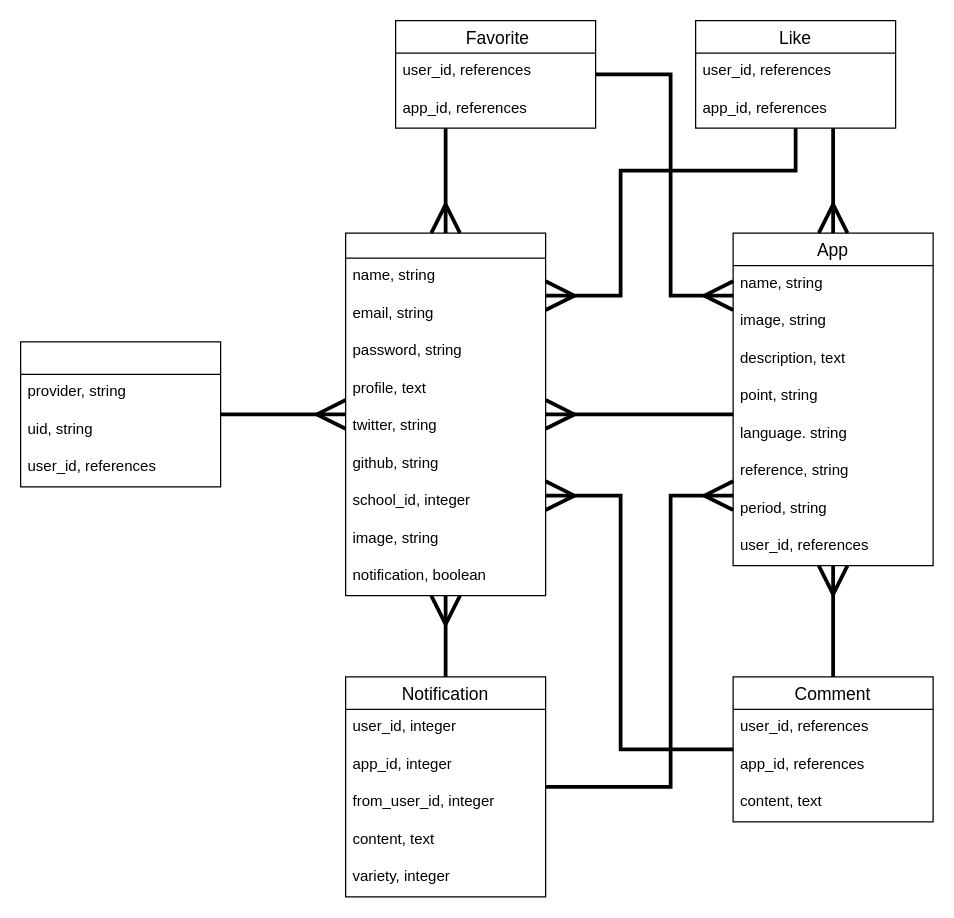
The diagram is 954 pixels wide and 918 high, and some of its shapes have lost their labels. The shapes that lost their labels are listed below. From the top down, each one's box as (x1, y1, x2, y2) in pixels, then its label:
(19, 341, 221, 487): Sns_credentials
(344, 232, 546, 596): User
